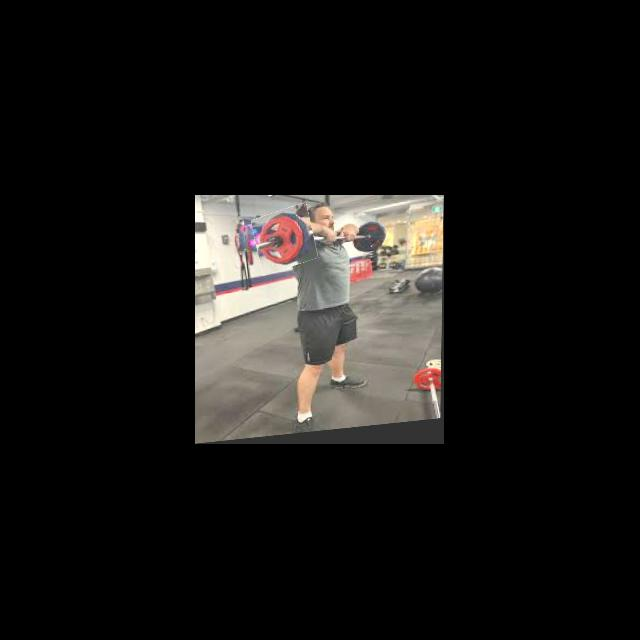barbell: (253, 206, 316, 275)
